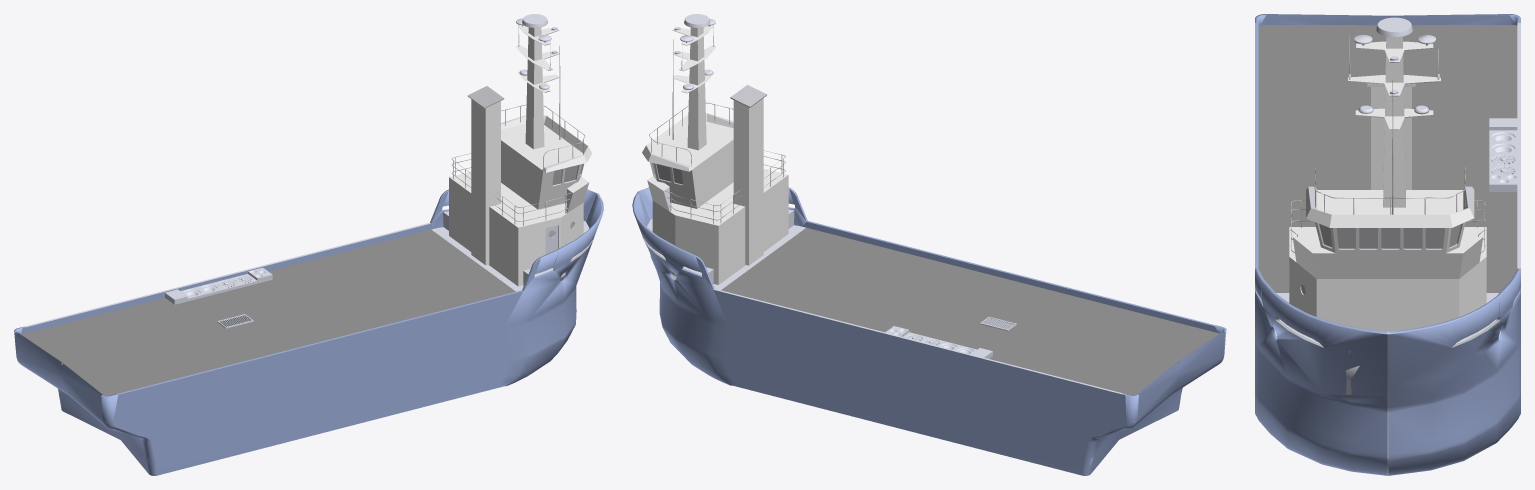
Rendered from testShip.dae.
3 renders of one model, left to right at view 1: azimuth 30°, elevation 25°; view 2: azimuth 150°, elevation 25°; view 3: azimuth 270°, elevation 25°, orthographic. The views are drawn at different scales.
Visible parts, largest first — view 1: ship-1_001, ship_001, ship-3_001, ship-2_001, ship-5_001, ship-4_001; view 2: ship-1_001, ship_001, ship-3_001, ship-2_001, ship-5_001, ship-4_001; view 3: ship-1_001, ship_001, ship-3_001, ship-2_001, ship-4_001, ship-5_001.
Part boxes in pixels (bbox=[...]): ship-1_001: bbox=[14, 189, 603, 475]; ship_001: bbox=[21, 229, 515, 395]; ship-3_001: bbox=[449, 25, 592, 286]; ship-2_001: bbox=[15, 14, 598, 395]; ship-5_001: bbox=[451, 27, 585, 225]; ship-4_001: bbox=[467, 86, 593, 270]; ship-1_001: bbox=[632, 187, 1226, 475]; ship_001: bbox=[721, 227, 1219, 395]; ship-3_001: bbox=[642, 25, 788, 284]; ship-2_001: bbox=[637, 14, 1225, 394]; ship-5_001: bbox=[649, 27, 785, 223]; ship-4_001: bbox=[642, 85, 767, 269]; ship-1_001: bbox=[1255, 14, 1520, 475]; ship_001: bbox=[1258, 25, 1517, 292]; ship-3_001: bbox=[1289, 36, 1486, 341]; ship-2_001: bbox=[1266, 14, 1520, 475]; ship-4_001: bbox=[1255, 83, 1520, 347]; ship-5_001: bbox=[1290, 35, 1485, 253].
Bounding box in the file's own units: 14387 × 4310 × 8077.
